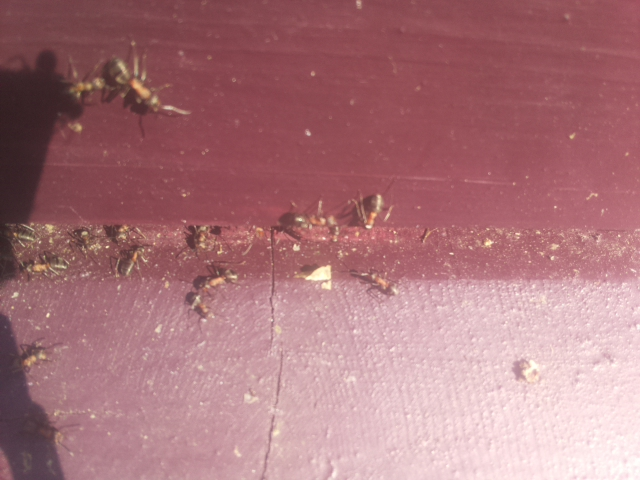ant: (97, 43, 169, 130), (342, 266, 404, 300), (20, 247, 73, 282), (189, 266, 242, 294), (359, 184, 387, 234), (115, 242, 149, 279), (26, 419, 70, 447), (17, 339, 52, 374), (61, 74, 107, 98), (184, 288, 215, 323), (2, 221, 37, 244), (72, 226, 95, 254)
